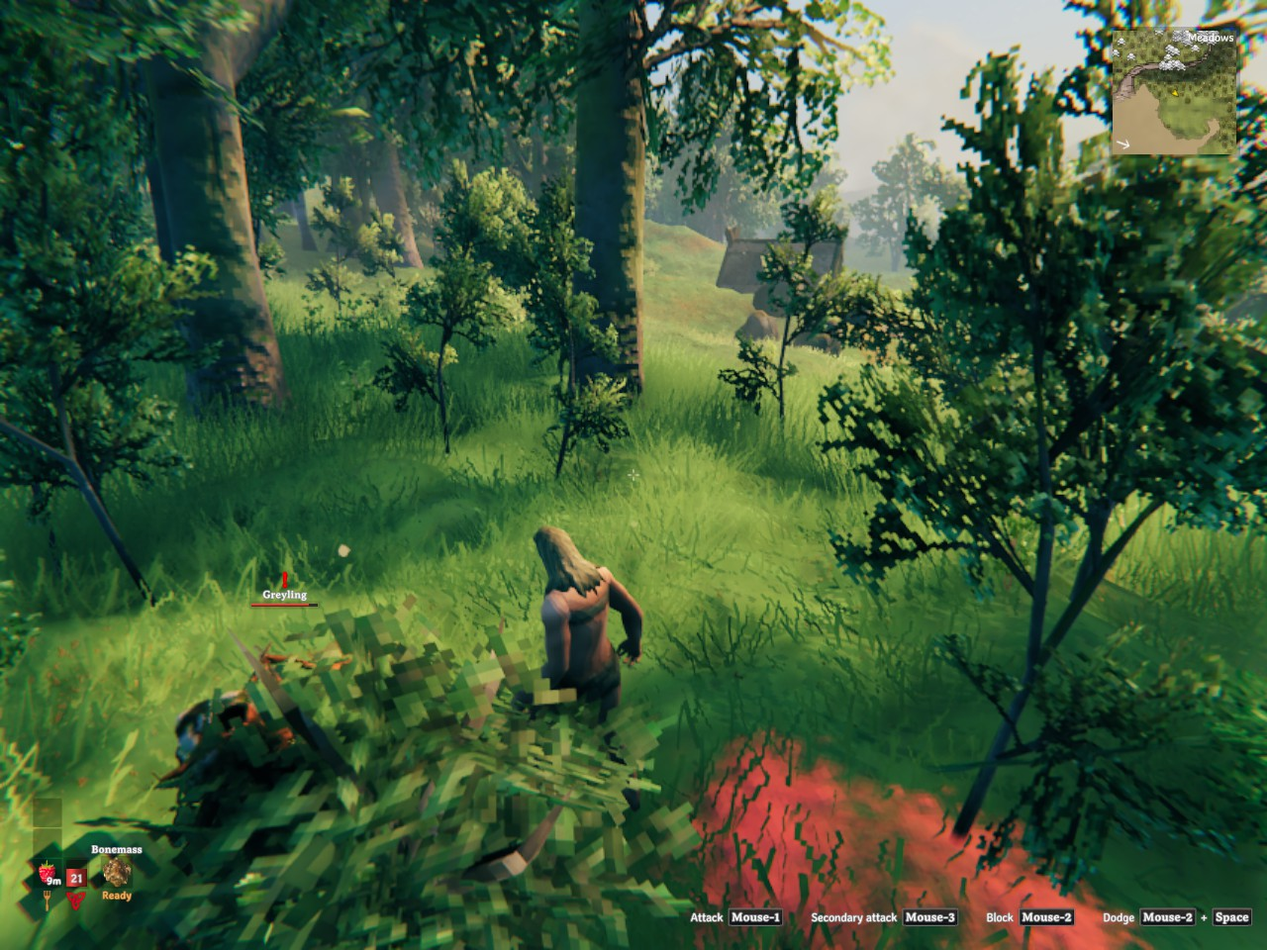Greyling: (161, 701, 211, 780), (218, 691, 257, 735), (275, 732, 289, 742)
